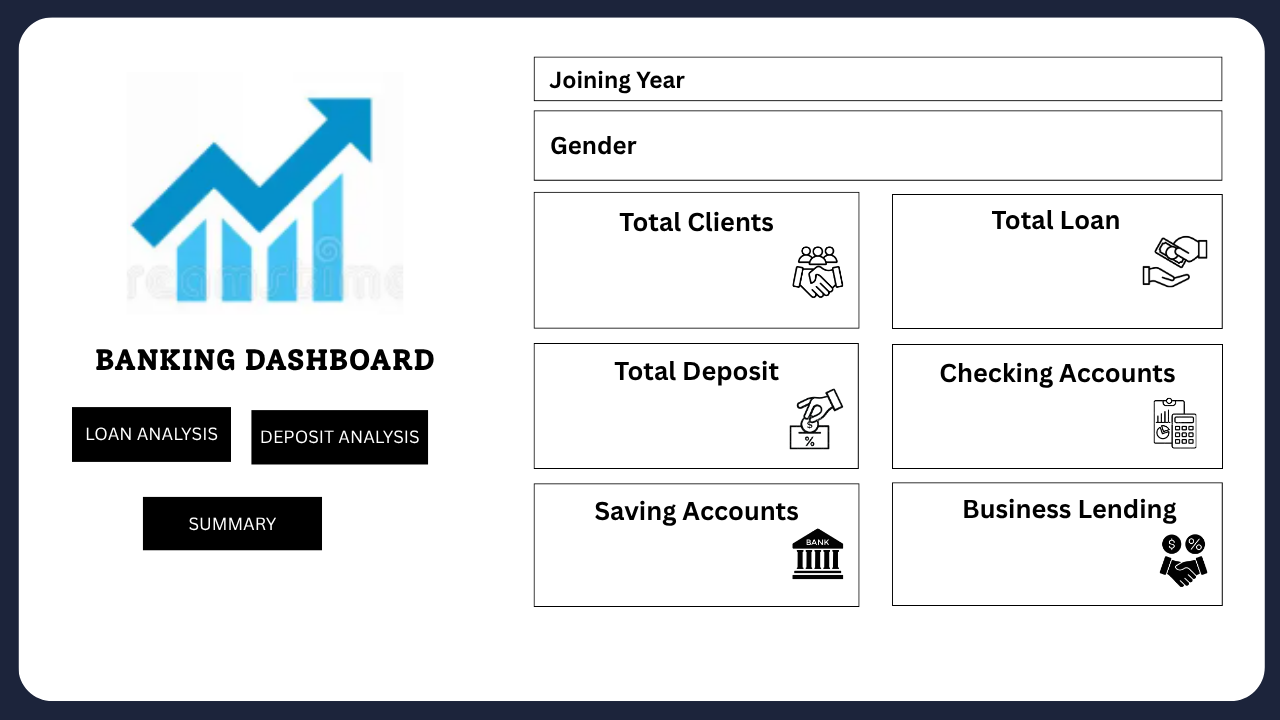

The page's visual inventory and layout, read from the dashboard file:
{"tool":"powerbi","page":{"name":"Home","canvas":[1280,720],"ordinal":0},"visuals":[{"type":"card","fields":{"Values":["CountNonNull(customer.Name)"]},"box":[593.6,250.9,195.4,53.1],"z":0},{"type":"card","fields":{"Values":["customer.Total Loan"]},"box":[947.1,241.3,214.7,62.7],"z":1000},{"type":"card","fields":{"Values":["customer.Total deposit"]},"box":[570.6,394.5,240.1,67.6],"z":2000},{"type":"card","fields":{"Values":["Sum(customer.Checking Accounts)"]},"box":[936.2,392.1,225.6,61.5],"z":3000},{"type":"card","fields":{"Values":["Sum(customer.Saving Accounts)"]},"box":[540.7,536.5,301.9,56.3],"z":4000},{"type":"card","fields":{"Values":["Sum(customer.Business Lending)"]},"box":[900.2,536.5,306,71.4],"z":5000},{"type":"actionButton","box":[76,406.6,150.8,47.1],"z":6000},{"type":"actionButton","box":[249.7,406.2,179.8,54.9],"z":7000},{"type":"actionButton","box":[141.3,495.4,177,52.1],"z":8000},{"type":"slicer","fields":{"Values":["customer.GenderId"]},"box":[650.3,111,556.2,60.3],"z":9000},{"type":"slicer","fields":{"Values":["customer.Year of joining"]},"box":[691.3,56.7,526,43.4],"z":10000}]}

Visuals, with their boxes in screenshot pixels (x1, y1, x2, y2), scaled from the page's 1280x720 canvas onto the 1280x720 screenshot:
card - CountNonNull(customer.Name): 594:251:789:304
card - customer.Total Loan: 947:241:1162:304
card - customer.Total deposit: 571:394:811:462
card - Sum(customer.Checking Accounts): 936:392:1162:454
card - Sum(customer.Saving Accounts): 541:536:843:593
card - Sum(customer.Business Lending): 900:536:1206:608
actionButton: 76:407:227:454
actionButton: 250:406:430:461
actionButton: 141:495:318:548
slicer - customer.GenderId: 650:111:1206:171
slicer - customer.Year of joining: 691:57:1217:100
